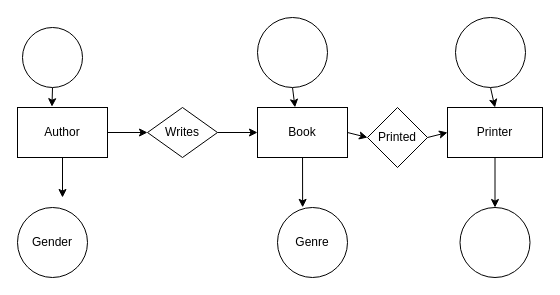
The diagram is 560 pixels wide and 295 high, and some of its shapes have lost their labels. The box of each missing label's shape, as (x1, y1, x2, y2) in pixels:
Full Names: (22, 26, 82, 88)
Manufacturer: (454, 16, 526, 88)
Size: (459, 206, 530, 278)
Title: (256, 16, 328, 88)
